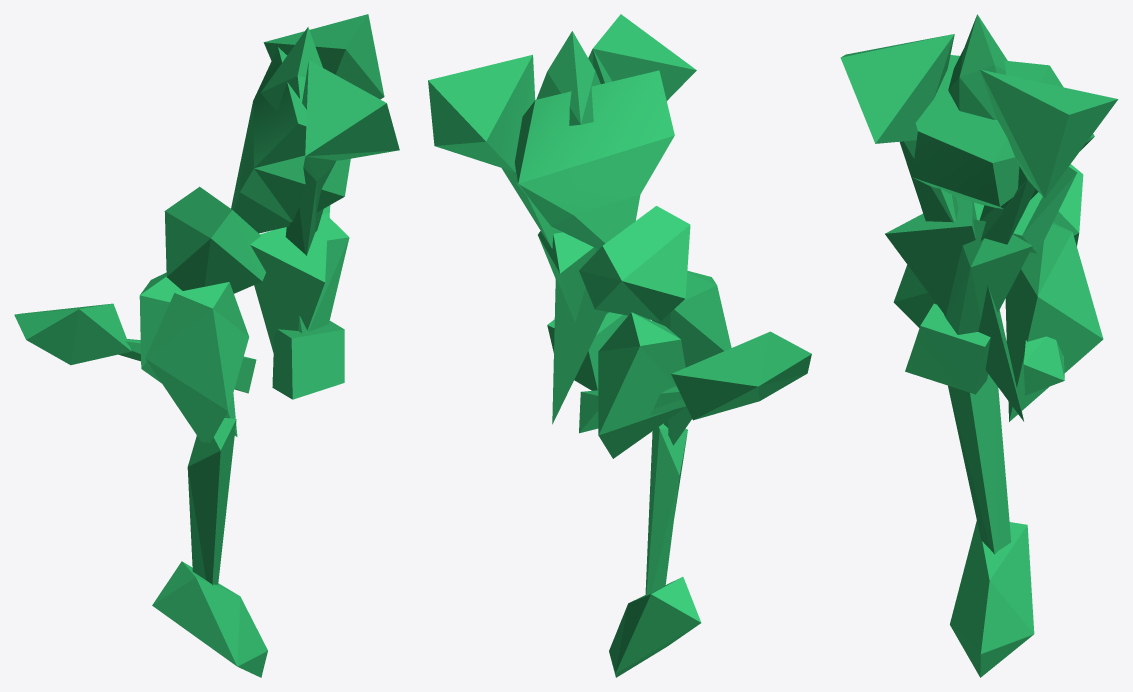
The picture shows the model from 3 angles, left to right: view 1: azimuth 30°, elevation 25°; view 2: azimuth 150°, elevation 25°; view 3: azimuth 270°, elevation 25°; orthographic projection. The views are drawn at different scales.
Parts seen in each view (by area): view 1: samuspoly.002; view 2: samuspoly.002; view 3: samuspoly.002.
Part boxes in pixels (left/top/right/bottom): samuspoly.002: left=14, top=14, right=399, bottom=677; samuspoly.002: left=428, top=14, right=811, bottom=677; samuspoly.002: left=840, top=14, right=1118, bottom=677.
Bounding box in the file's own units: 0.3724 × 0.6073 × 0.2225.
